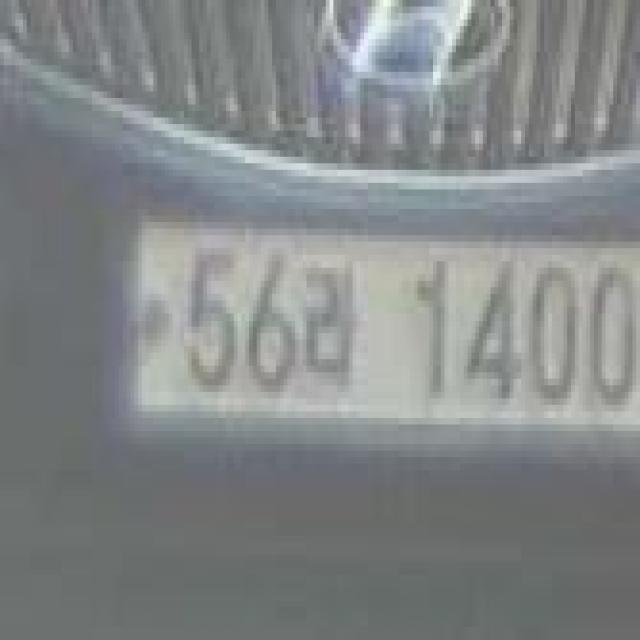illegal_plate: (128, 204, 638, 466)
